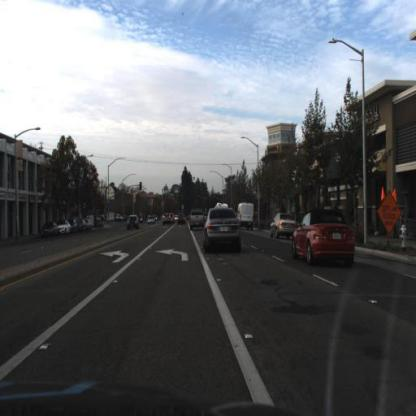car: (292, 210, 356, 266), (204, 205, 243, 256), (269, 213, 298, 241), (237, 200, 257, 233), (126, 212, 144, 235), (190, 209, 208, 232), (41, 220, 61, 239), (71, 217, 94, 233), (57, 217, 71, 240), (58, 220, 72, 239), (127, 215, 141, 231), (146, 214, 159, 228), (163, 213, 175, 228), (178, 215, 188, 228)
truck: (238, 202, 256, 231)
